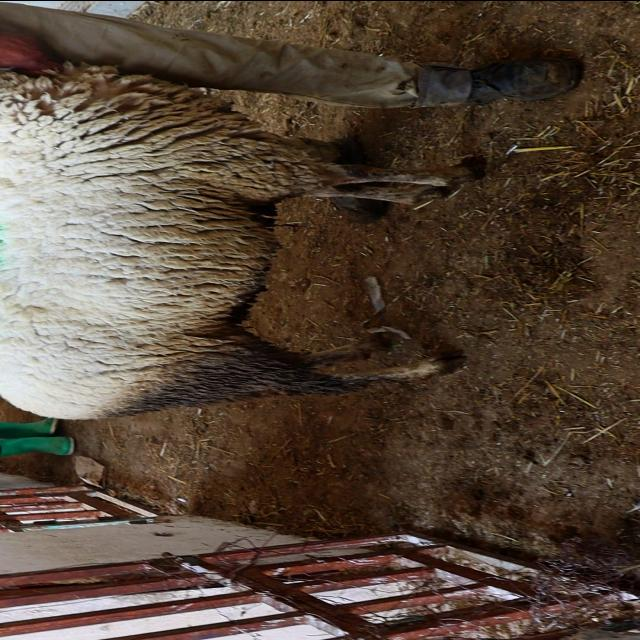Score_5: (0, 63, 481, 419)
